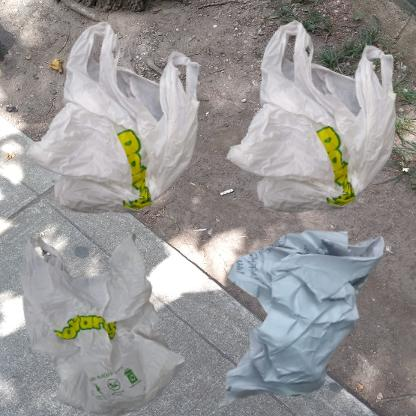bolsa: (10, 10, 257, 281), (213, 10, 416, 269), (10, 213, 201, 416)
papel: (213, 213, 390, 416)
